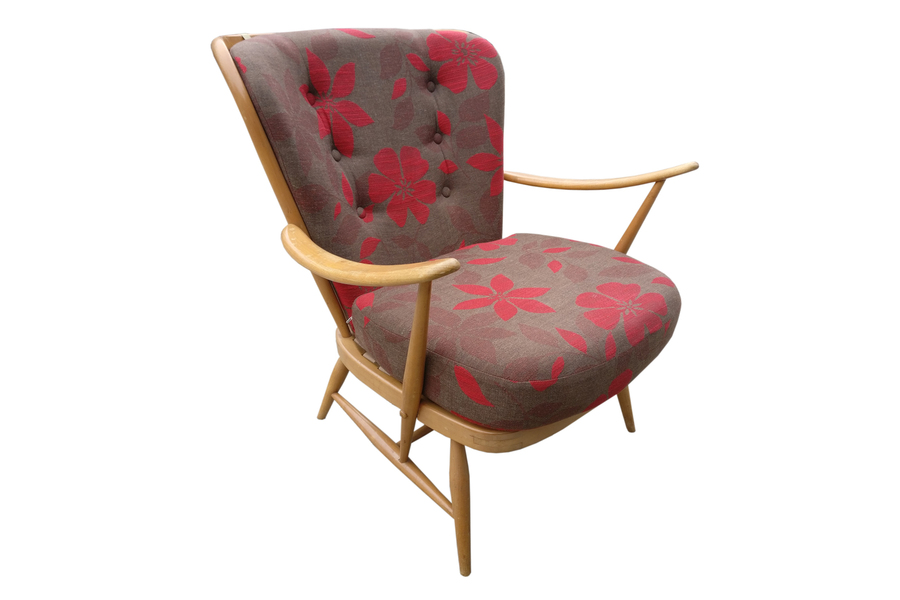chairs: (206, 30, 701, 581)
